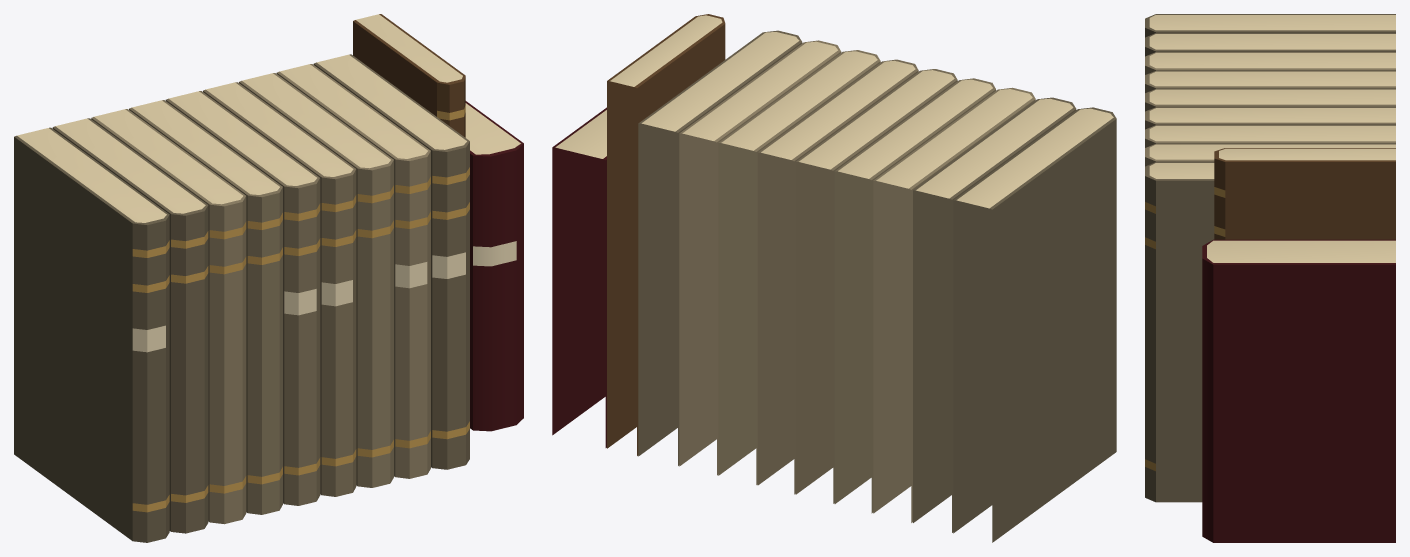
The model's file is bookrow_tall_4.glb.
3 renders of one model, left to right at view 1: azimuth 30°, elevation 25°; view 2: azimuth 150°, elevation 25°; view 3: azimuth 270°, elevation 25°, orthographic. The views are drawn at different scales.
Visible parts, largest first — view 1: bookrow_tall_4; view 2: bookrow_tall_4; view 3: bookrow_tall_4.
Part boxes in pixels (x1,y1,x2,y2): bookrow_tall_4: (14, 14, 523, 542); bookrow_tall_4: (552, 14, 1116, 542); bookrow_tall_4: (1145, 14, 1395, 542).
Size of the model in its own units: 0.4658 by 0.3727 by 0.2384.
